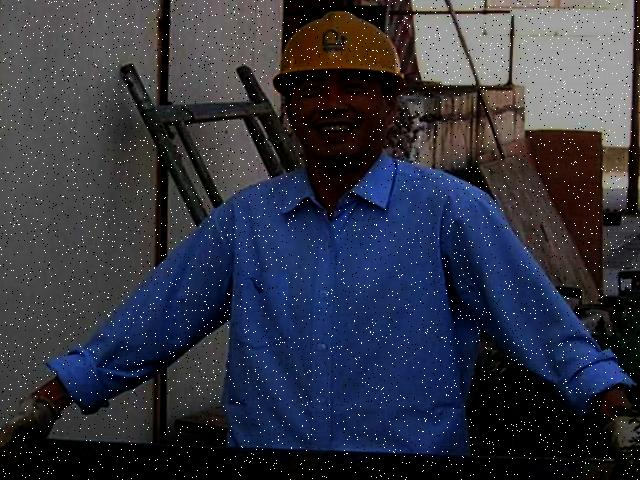Helmet: (270, 6, 412, 100)
